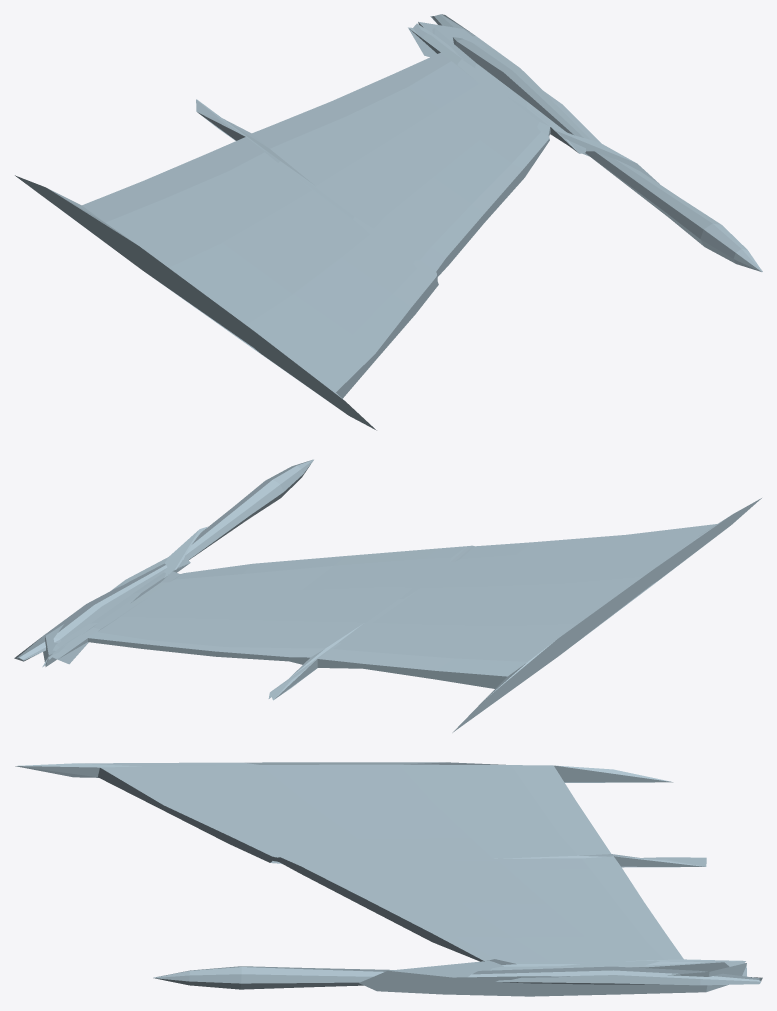
File: su33d_wing_fold_left.glb
3 renders of one model, top to bottom at view 1: azimuth 30°, elevation 25°; view 2: azimuth 150°, elevation 25°; view 3: azimuth 270°, elevation 25°, orthographic. The views are drawn at different scales.
Parts seen in each view (by area): view 1: 0_WingFoldLeft; view 2: 0_WingFoldLeft; view 3: 0_WingFoldLeft.
Boxes of the visible parts, bbox=[...] form: 0_WingFoldLeft: bbox=[15, 14, 762, 430]; 0_WingFoldLeft: bbox=[14, 459, 761, 732]; 0_WingFoldLeft: bbox=[15, 762, 762, 996].
Size of the model in its own units: 3.65 by 0.2119 by 5.44.
